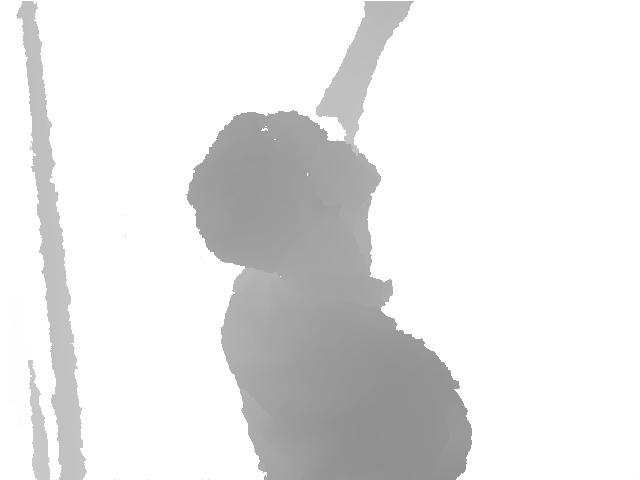head: (186, 111, 382, 274)
person: (186, 1, 474, 480)
